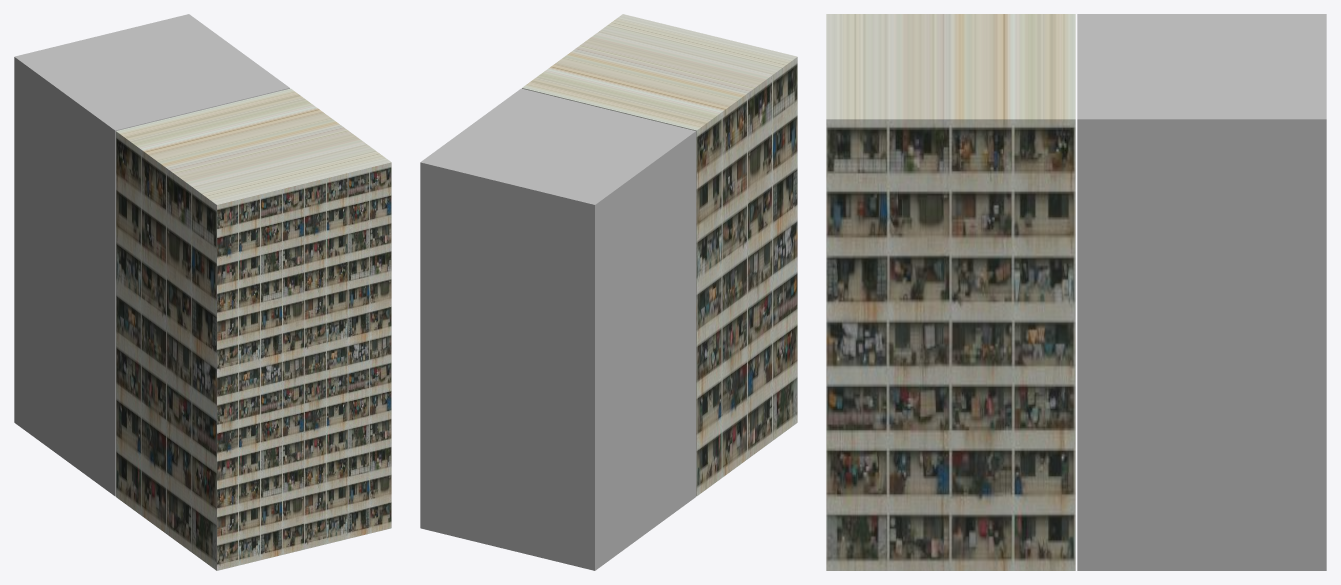
Rendered from casas.fbx.
The picture shows the model from 3 angles, left to right: view 1: azimuth 30°, elevation 25°; view 2: azimuth 150°, elevation 25°; view 3: azimuth 270°, elevation 25°; orthographic projection. The views are drawn at different scales.
Visible parts, largest first — view 1: pCube1, pasted__pCube1; view 2: pasted__pCube1, pCube1; view 3: pCube1, pasted__pCube1.
Part boxes in pixels (x1,y1,x2,y2): pCube1: (116, 88, 391, 570); pasted__pCube1: (14, 14, 289, 496); pasted__pCube1: (420, 88, 695, 570); pCube1: (522, 14, 797, 496); pCube1: (826, 14, 1075, 570); pasted__pCube1: (1077, 14, 1326, 570).
Bounding box in the file's own units: 5 × 10 × 10.04.
